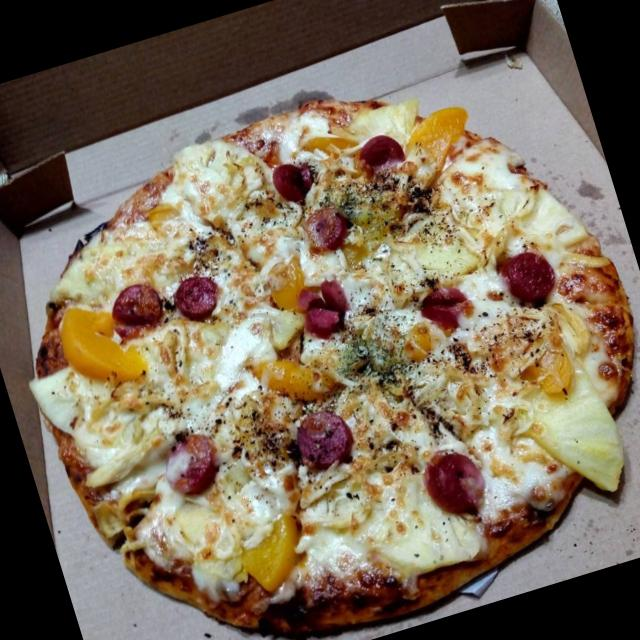pepperoni: (415, 434, 494, 521), (156, 419, 236, 498), (498, 236, 571, 313), (292, 400, 361, 470), (101, 272, 168, 344), (294, 270, 362, 338), (168, 258, 230, 332), (348, 124, 413, 184), (260, 146, 319, 208), (300, 198, 352, 256), (419, 276, 472, 332)
pizza: (28, 93, 637, 640)
